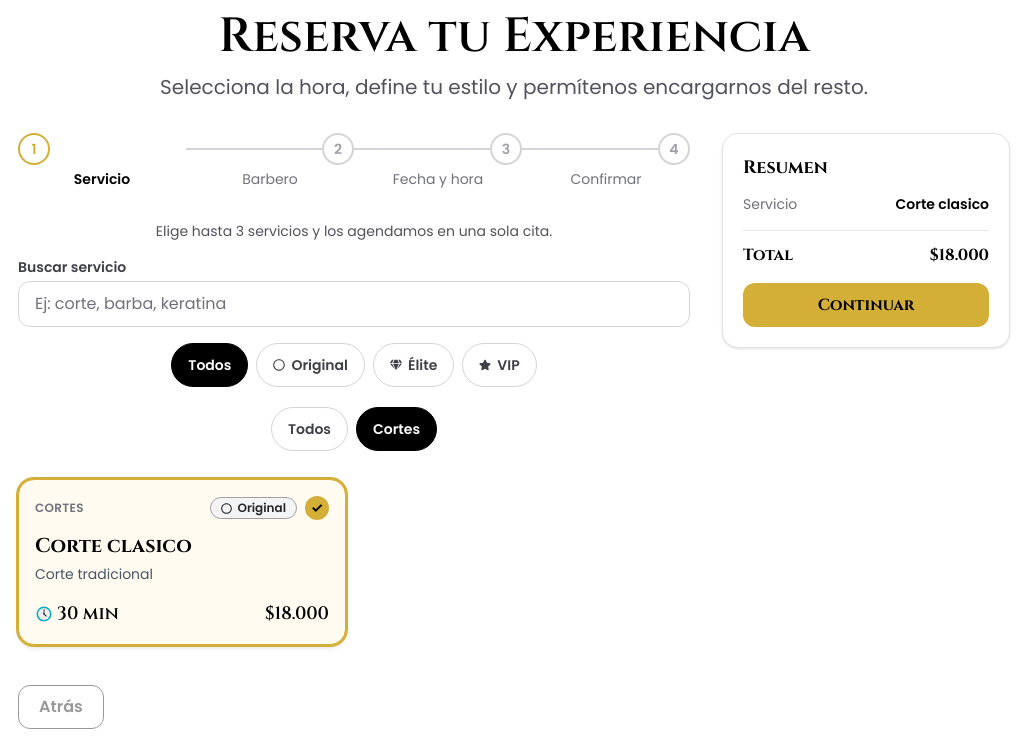
Test: ReservaCorte solo ofrece barbería › el paso Barbero lista a los barberos y no a la asesora
Check: the button "Corte clasico" is shown, box [18,479,346,645]
Click the button "Continuar" at (866, 305), box [743,283,989,327]
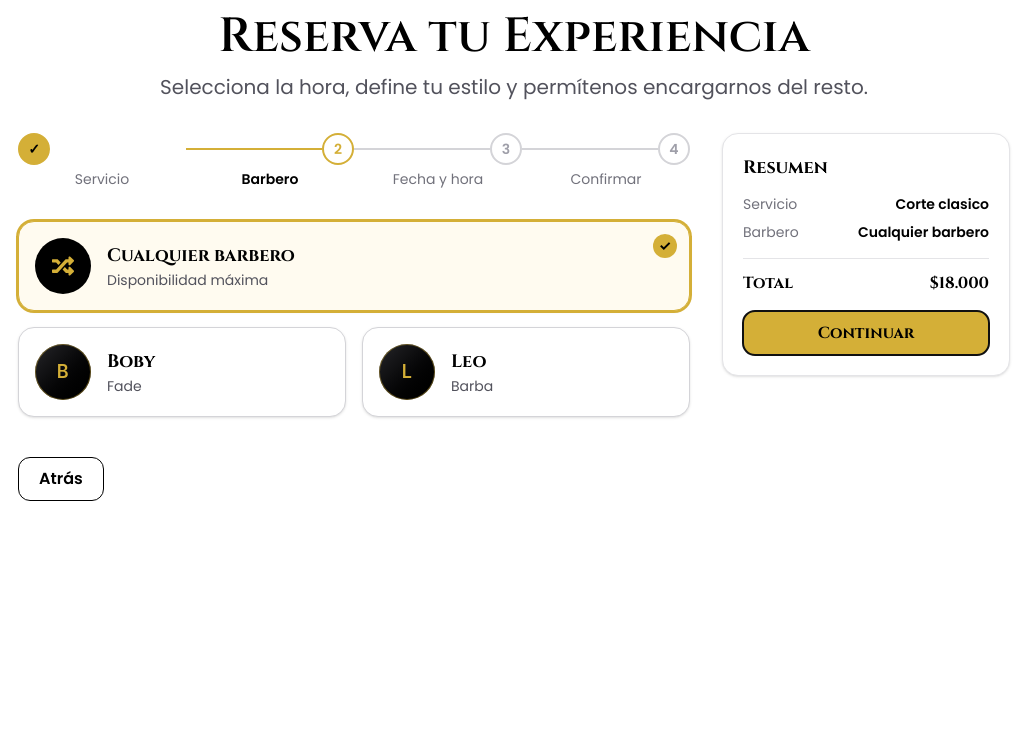
Check: the heading "Cualquier barbero" is shown, box [107,242,295,270]
Check: the heading "Boby" is shown, box [107,348,155,376]
Check: the heading "Leo" is shown, box [451,349,486,374]
